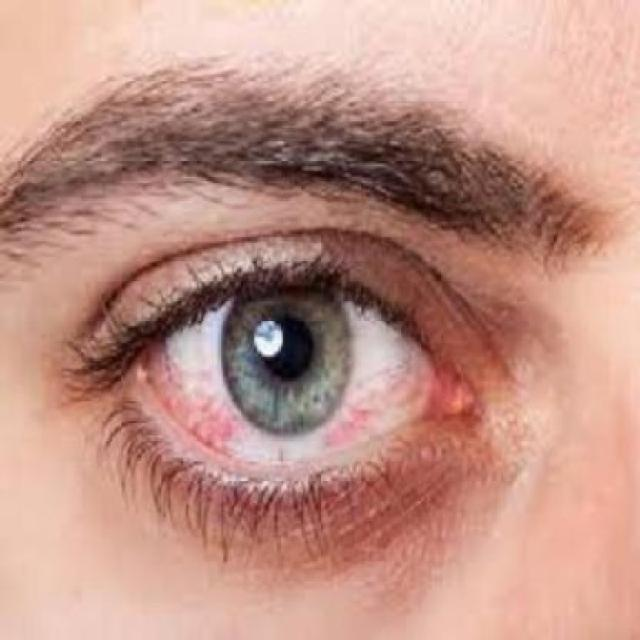awake: (110, 232, 481, 518)
